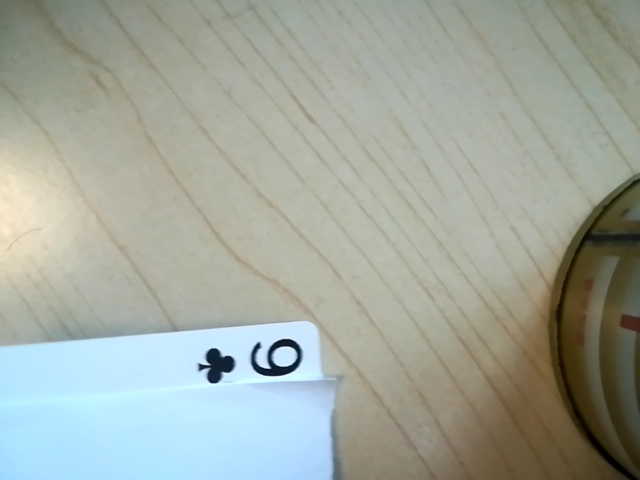mh 9: (190, 330, 321, 393)
